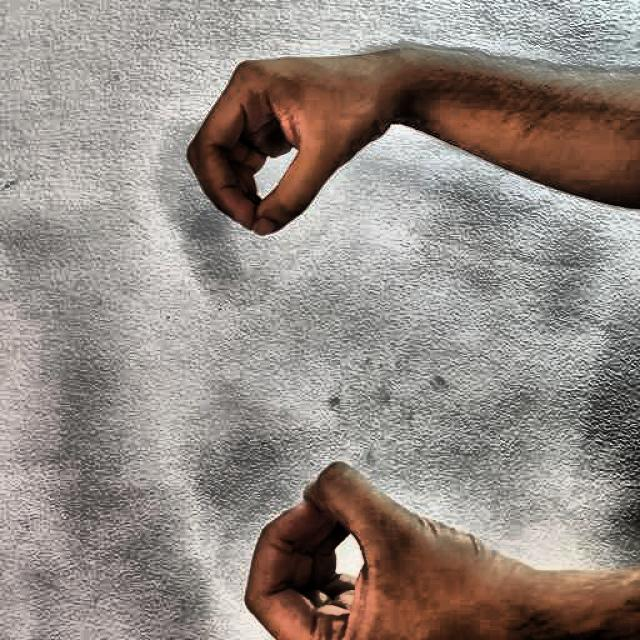Bisharga: (157, 19, 520, 640)
